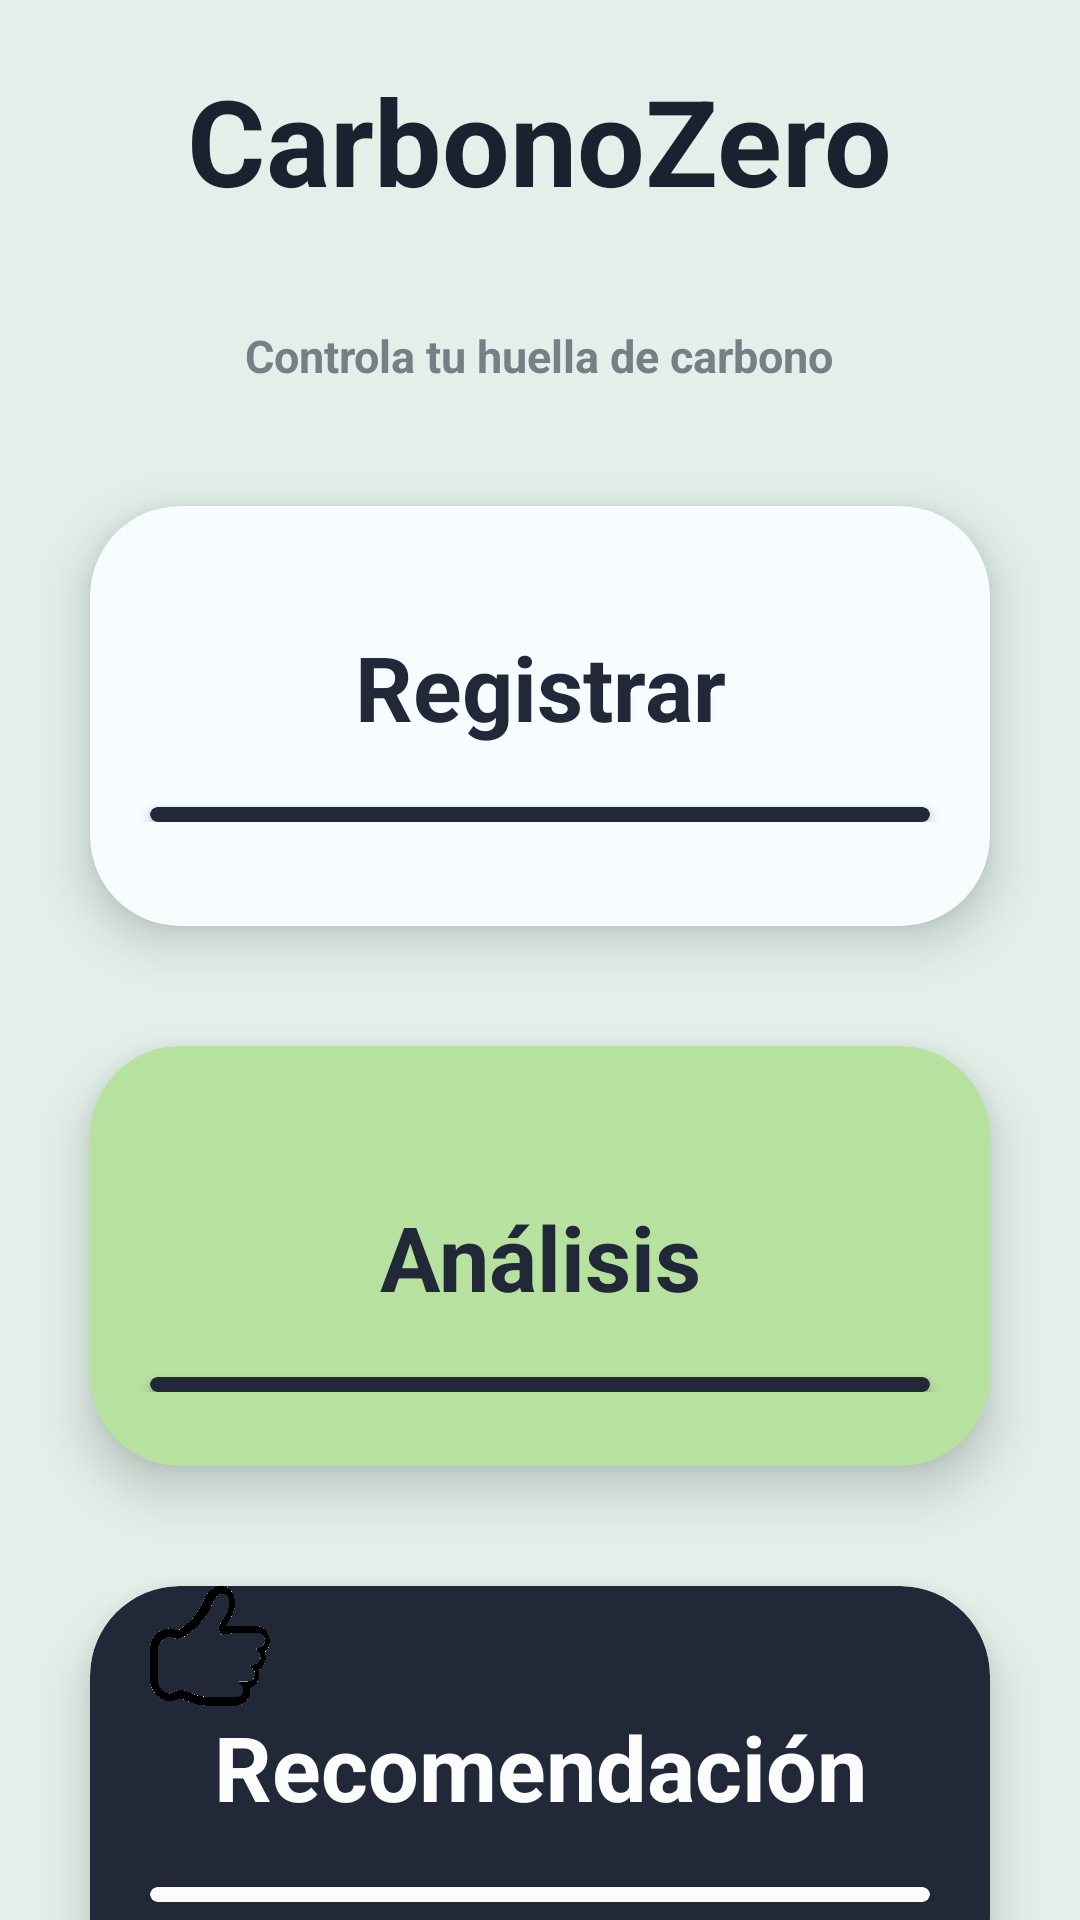

Point at icon controls on the screen. Image size 1080×1920, points as (x=x, y=y).
recomendacion: (x=210, y=1646)
